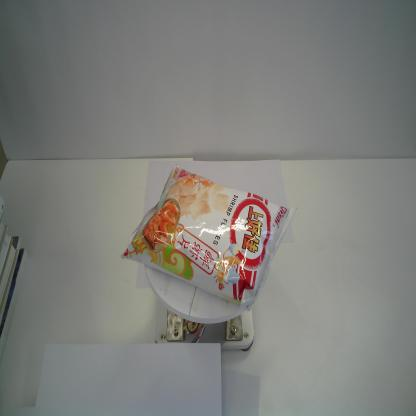Puffed Food: (120, 164, 297, 311)
